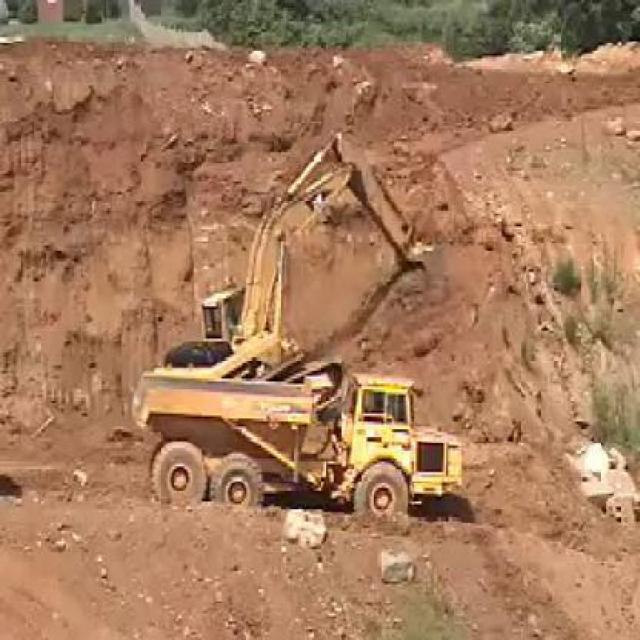Dump Truck: (128, 360, 464, 528)
Excavator: (126, 139, 432, 363)
